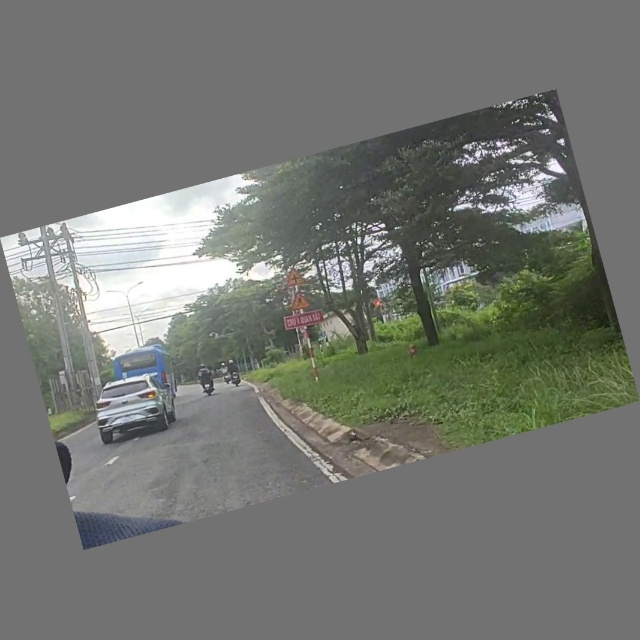W.205a: (282, 266, 307, 290)
W.224: (286, 288, 314, 313)
